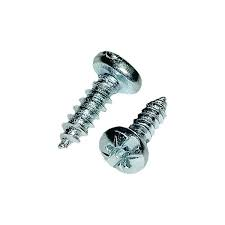TORNILLOS: (49, 34, 175, 181)
